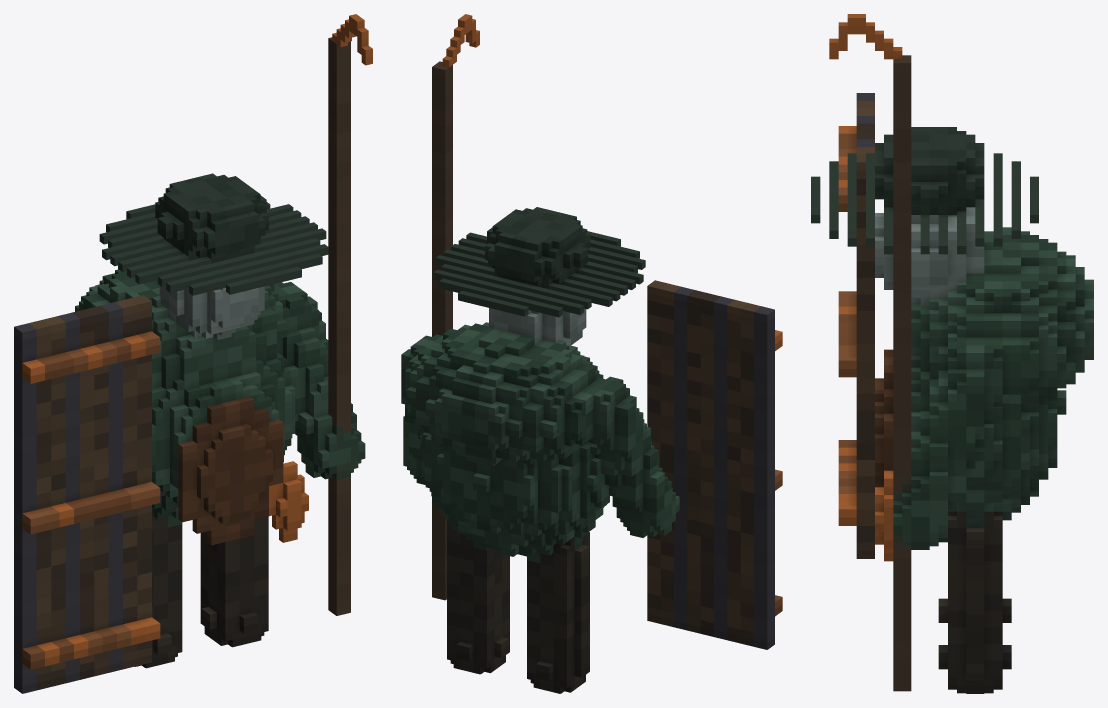
File: u_grelin.glb
3 renders of one model, left to right at view 1: azimuth 30°, elevation 25°; view 2: azimuth 150°, elevation 25°; view 3: azimuth 270°, elevation 25°, orthographic. The views are drawn at different scales.
Visible parts, largest first — view 1: grelin_body, grelin_weapon; view 2: grelin_body, grelin_weapon; view 3: grelin_body, grelin_weapon.
Boxes of the visible parts, x1,y1,x2,y2 form: grelin_body: (14,173,365,693); grelin_weapon: (328,14,372,615); grelin_body: (401,207,782,693); grelin_weapon: (432,14,479,600); grelin_body: (811,93,1093,693); grelin_weapon: (829,14,911,691).
Size of the model in its own units: 1.25 by 2.15 by 0.775.
